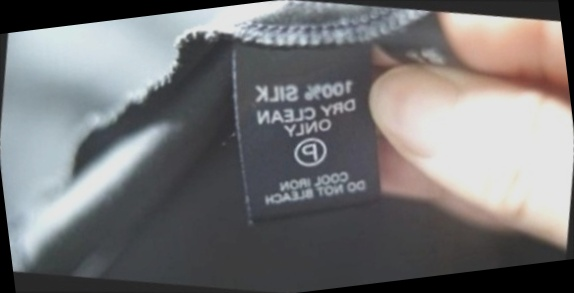dry_clean_any_solvent_except_trichloroethylene: (284, 127, 335, 176)
